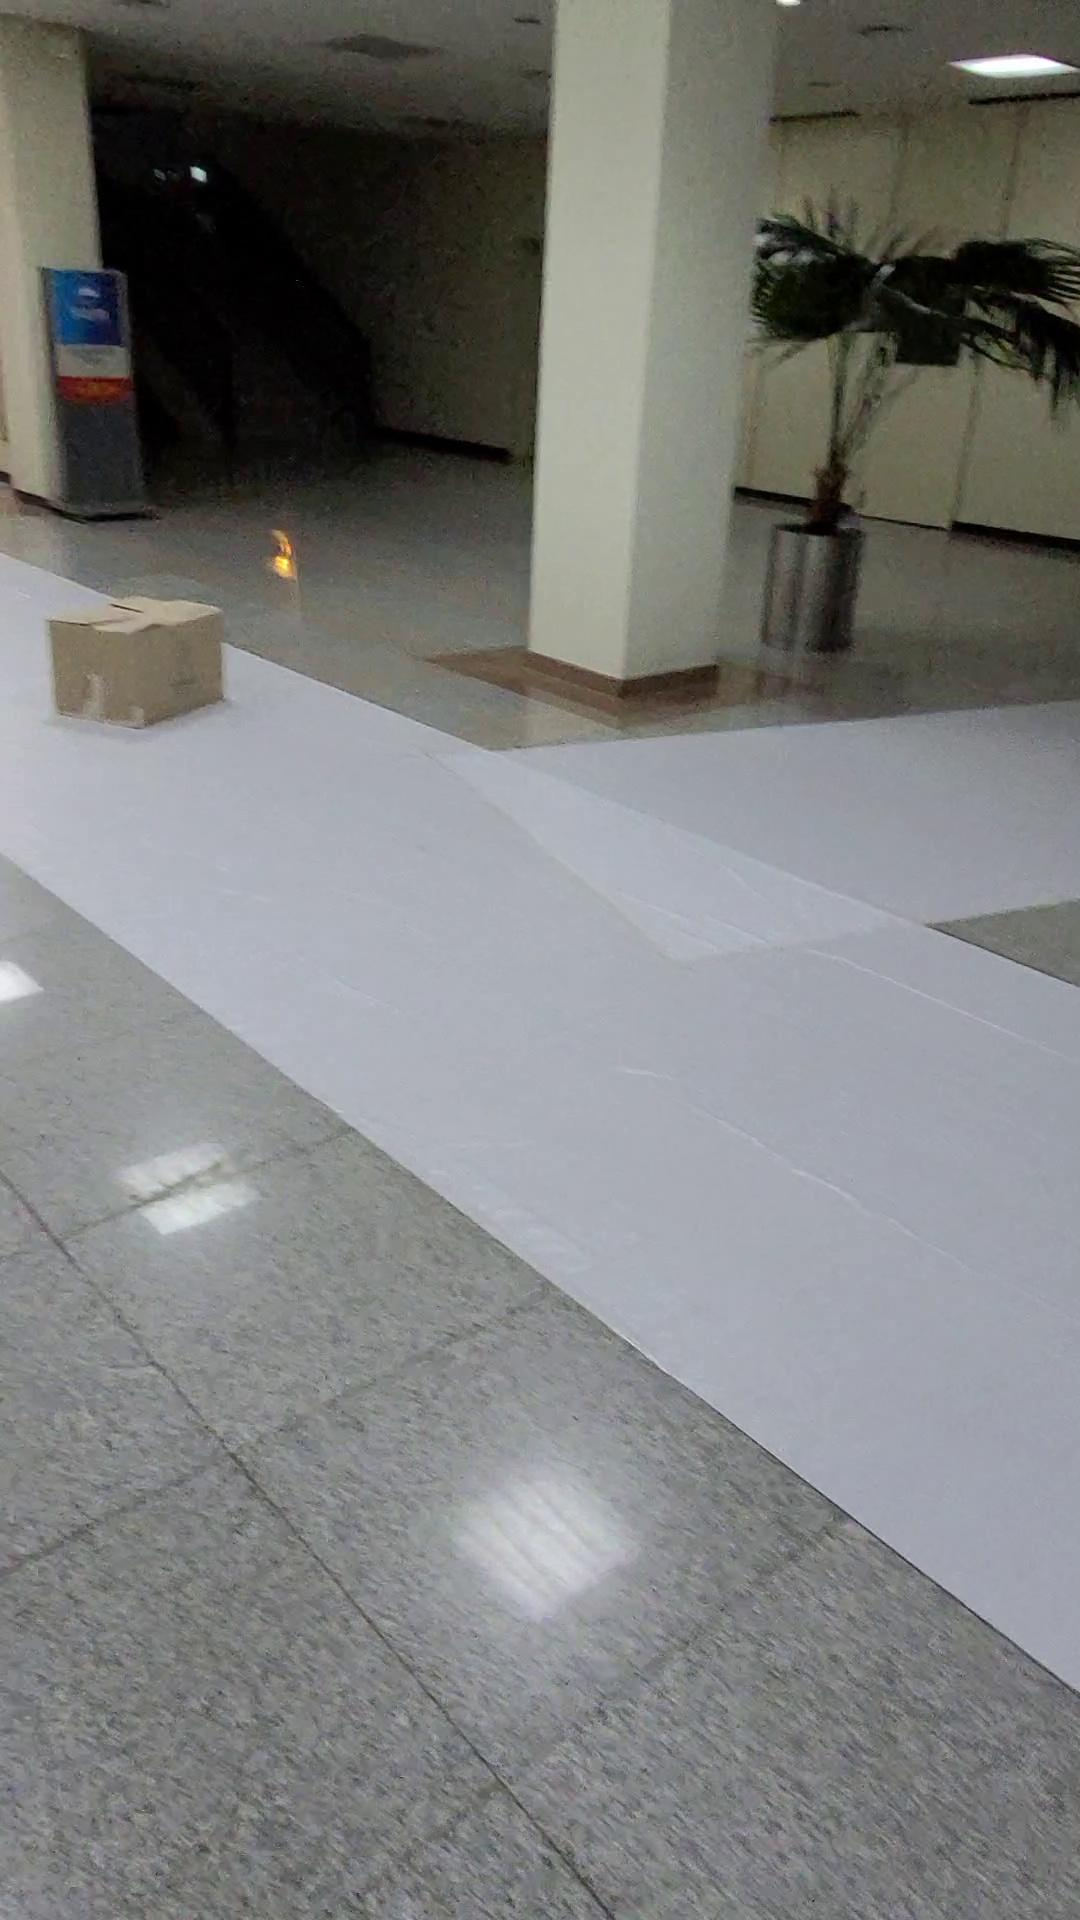Box: (33, 570, 266, 767)
